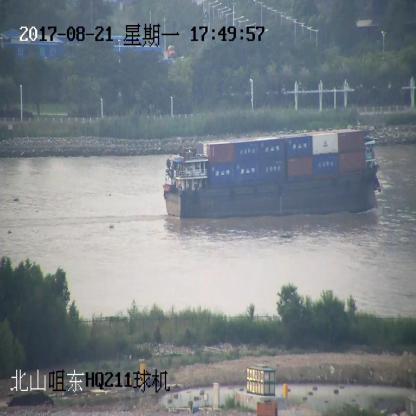Container Ship: (164, 132, 380, 217)
